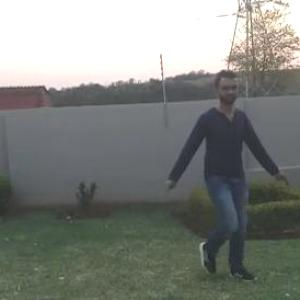land: (153, 69, 282, 284)
